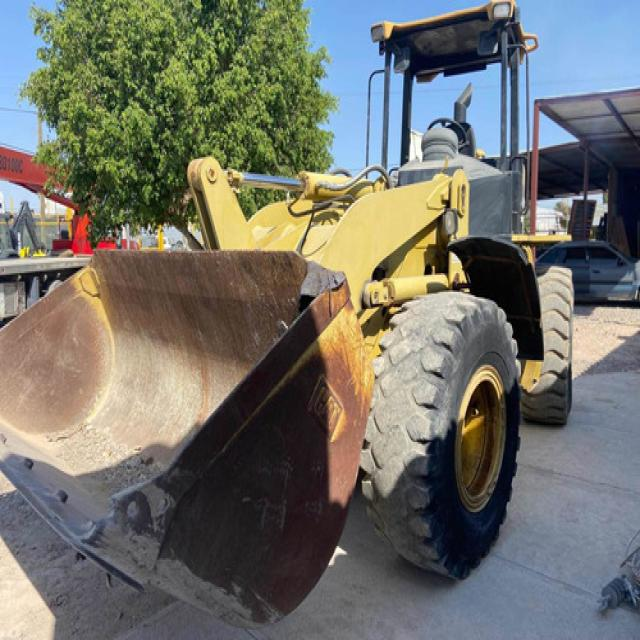buldozerpayloadergrader: (3, 6, 576, 626)
